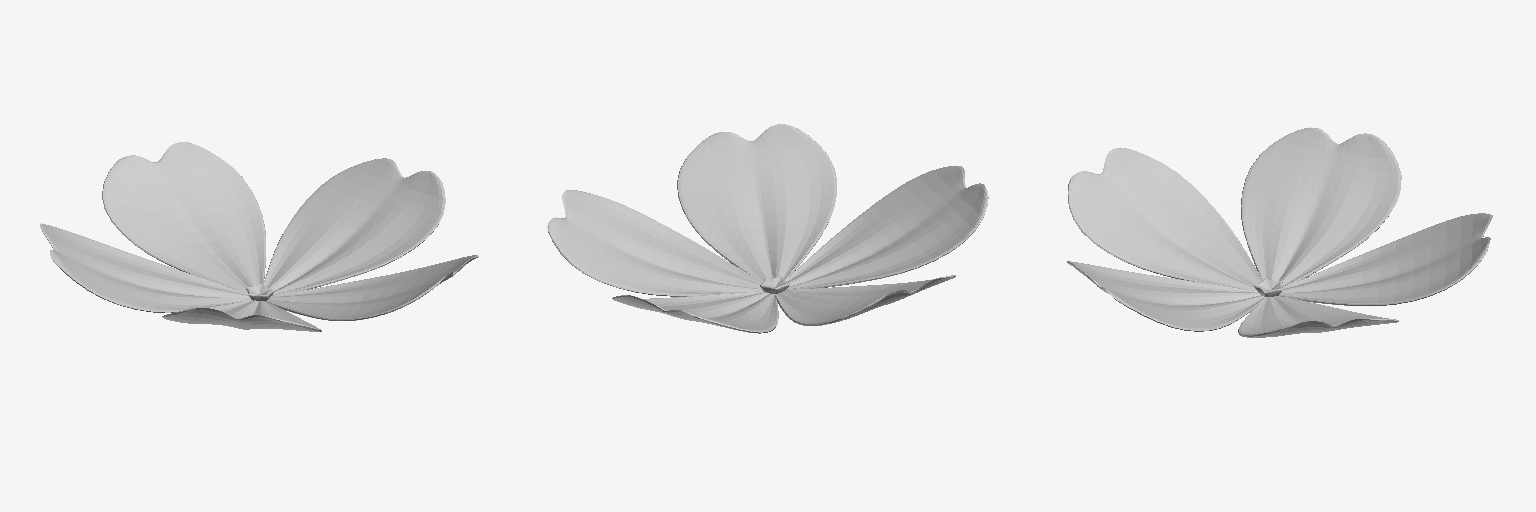
File: sakura.obj
The picture shows the model from 3 angles: view 1: azimuth 30°, elevation 25°; view 2: azimuth 150°, elevation 25°; view 3: azimuth 270°, elevation 25°; orthographic projection.
Visible parts, largest first — view 1: Sakura; view 2: Sakura; view 3: Sakura.
Part boxes in pixels (x1,y1,x2,y2): Sakura: (40,142,478,331); Sakura: (547,124,988,333); Sakura: (1067,127,1492,337).
Size of the model in its own units: 16.7 by 3.48 by 16.09.